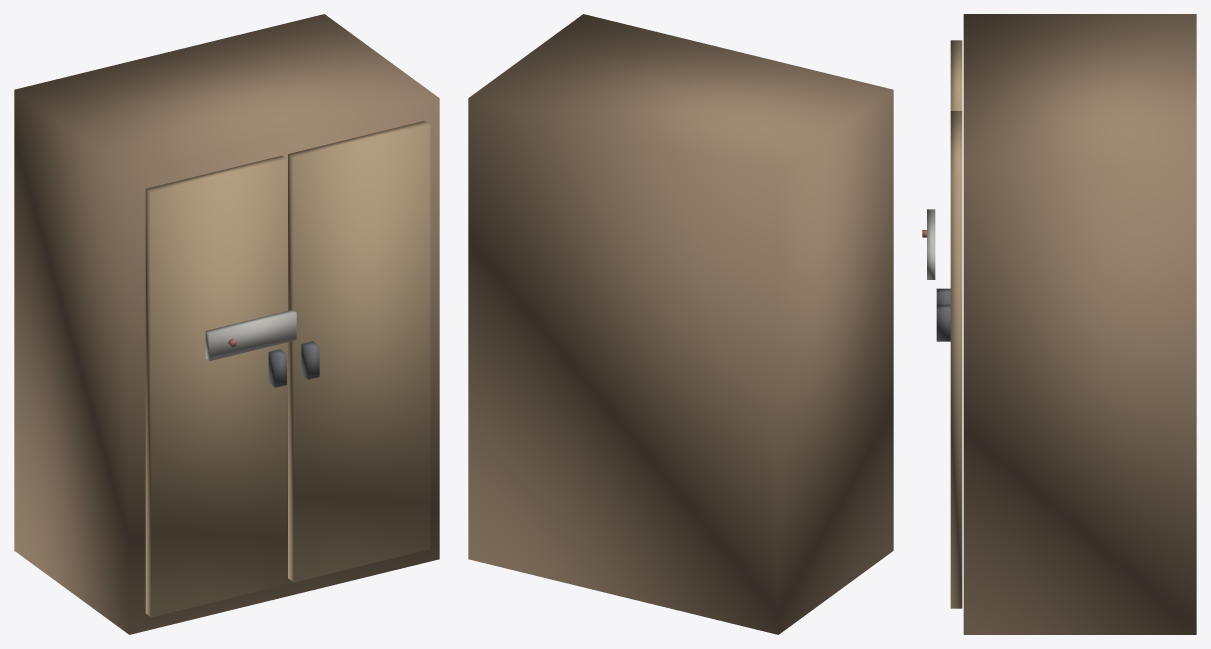
The model's file is dental_instrument_cabinet__deep.glb.
3 renders of one model, left to right at view 1: azimuth 30°, elevation 25°; view 2: azimuth 150°, elevation 25°; view 3: azimuth 270°, elevation 25°, orthographic.
Visible parts, largest first — view 1: world; view 2: world; view 3: world.
Part boxes in pixels (x1=…): world: x1=14, y1=14, x2=439, y2=634; world: x1=468, y1=14, x2=893, y2=634; world: x1=922, y1=14, x2=1196, y2=634.
Size of the model in its own units: 0.95 by 1.35 by 0.718.
